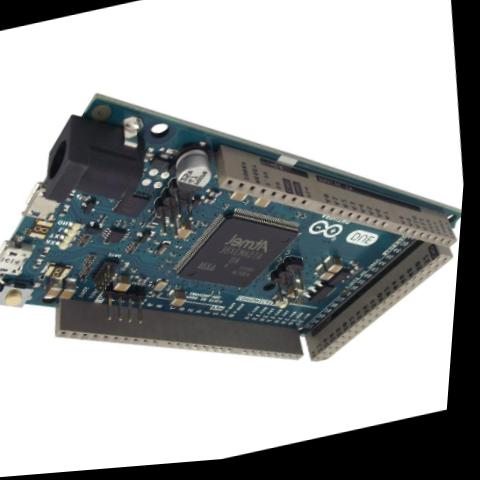Arduino-Due: (0, 23, 477, 435)
